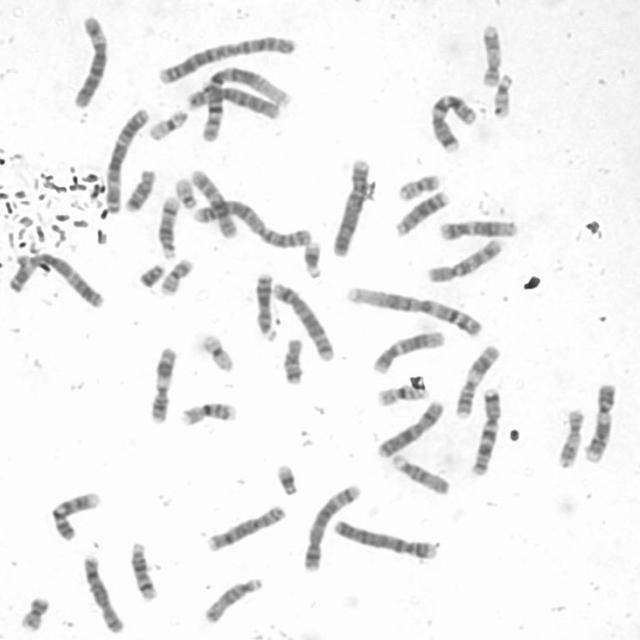A1: (344, 282, 484, 338), (197, 61, 291, 144)
A2: (155, 32, 298, 84), (191, 196, 315, 248)
A3: (8, 251, 105, 310), (100, 104, 150, 215)
B4: (331, 516, 438, 562), (329, 155, 372, 258)
B5: (300, 480, 363, 572), (269, 279, 337, 363)
C10: (423, 234, 506, 284), (188, 164, 240, 240)
C11: (451, 340, 502, 419), (146, 342, 178, 426)
C12: (369, 327, 446, 375), (436, 215, 521, 241)
C6: (68, 12, 110, 110), (184, 82, 282, 121)
C7: (428, 88, 480, 154), (467, 384, 503, 476)
C8: (202, 501, 288, 553), (80, 552, 126, 634)
C9: (47, 487, 103, 542), (582, 380, 618, 463)
D13: (392, 186, 452, 238), (251, 268, 279, 342)
D14: (126, 537, 160, 603), (155, 193, 181, 260)
D15: (200, 574, 265, 624), (388, 449, 452, 496)
E16: (177, 398, 238, 428), (374, 382, 428, 407)
E17: (555, 405, 586, 470), (478, 20, 502, 88)
E18: (122, 165, 156, 212), (280, 334, 306, 386)
F19: (198, 331, 237, 374), (145, 106, 191, 142)
F20: (156, 255, 195, 297), (393, 170, 442, 202)
G21: (272, 460, 300, 497), (300, 238, 324, 280)
G22: (490, 71, 514, 120), (172, 172, 198, 210)
X: (372, 397, 446, 459)
Y: (136, 261, 166, 288)
